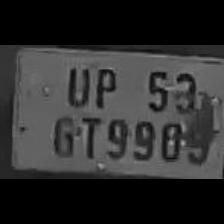3: (170, 69, 198, 114)
5: (142, 66, 170, 111)
9: (102, 112, 127, 160), (128, 116, 155, 160)
G: (47, 109, 77, 157)
P: (90, 61, 118, 108)
T: (76, 111, 100, 159)
U: (61, 60, 89, 108)
